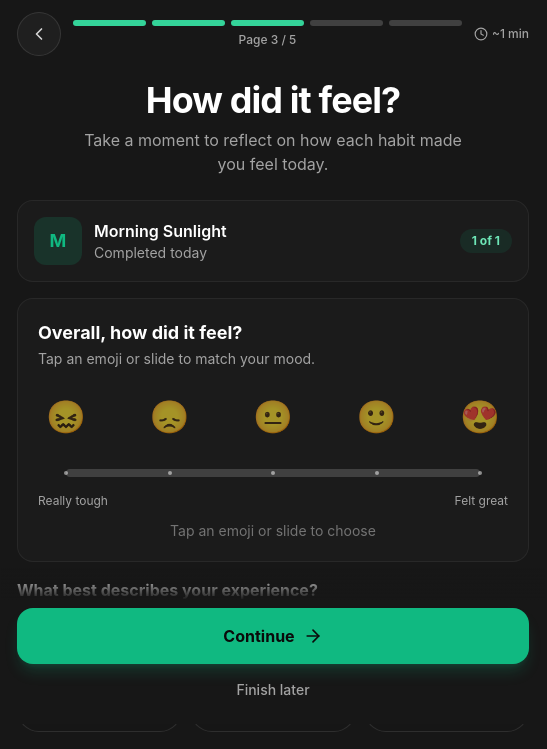
Test: CheckInPage › supports arrow keys on the emoji scale and effort selector
Step 1. Press ArrowRight in the radio button named "3 of 5, Neutral", box x1=245 y1=389 x2=301 y2=445
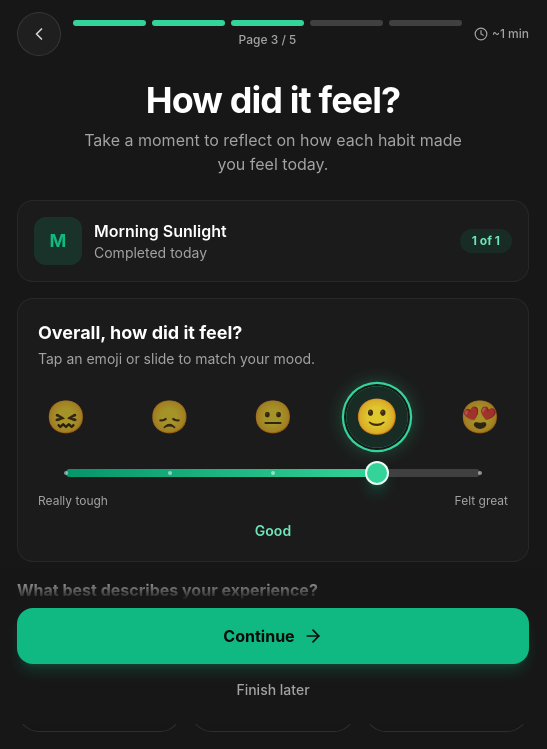
Check: the radio button named "4 of 5, Good" is checked, box x1=346 y1=386 x2=407 y2=448
Step 2. Click the button "Continue" → (273, 636), box x1=17 y1=608 x2=529 y2=664
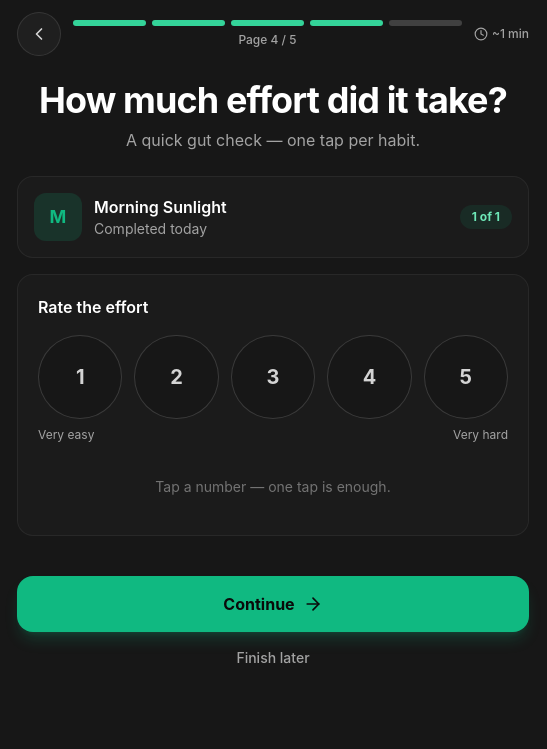
Check: the heading "How much effort did it take?" is shown, box x1=17 y1=80 x2=529 y2=120
Step 3. Click the radio button named "2, Easy" → (177, 377), box x1=134 y1=335 x2=219 y2=419
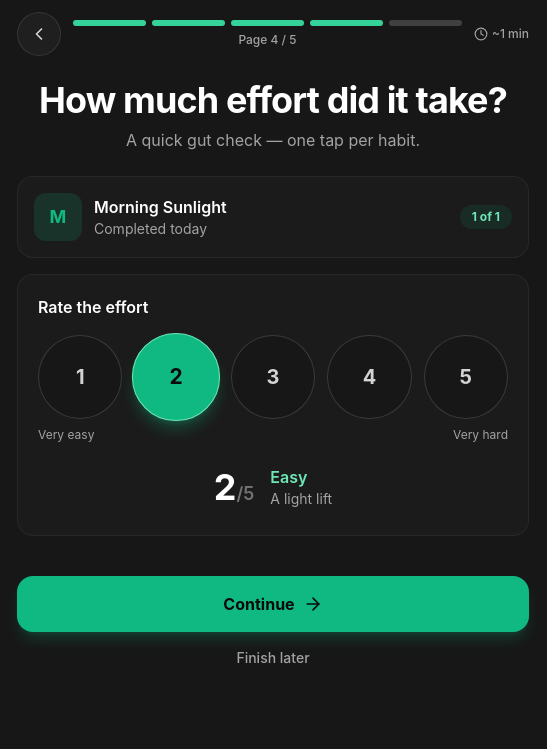
Check: the text "Easy" is shown, box x1=270 y1=467 x2=307 y2=487
